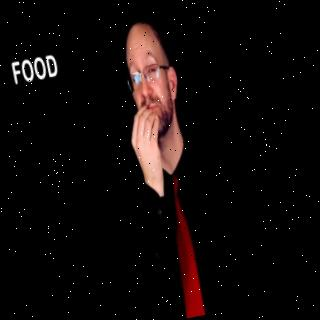Food: (97, 5, 229, 320)
